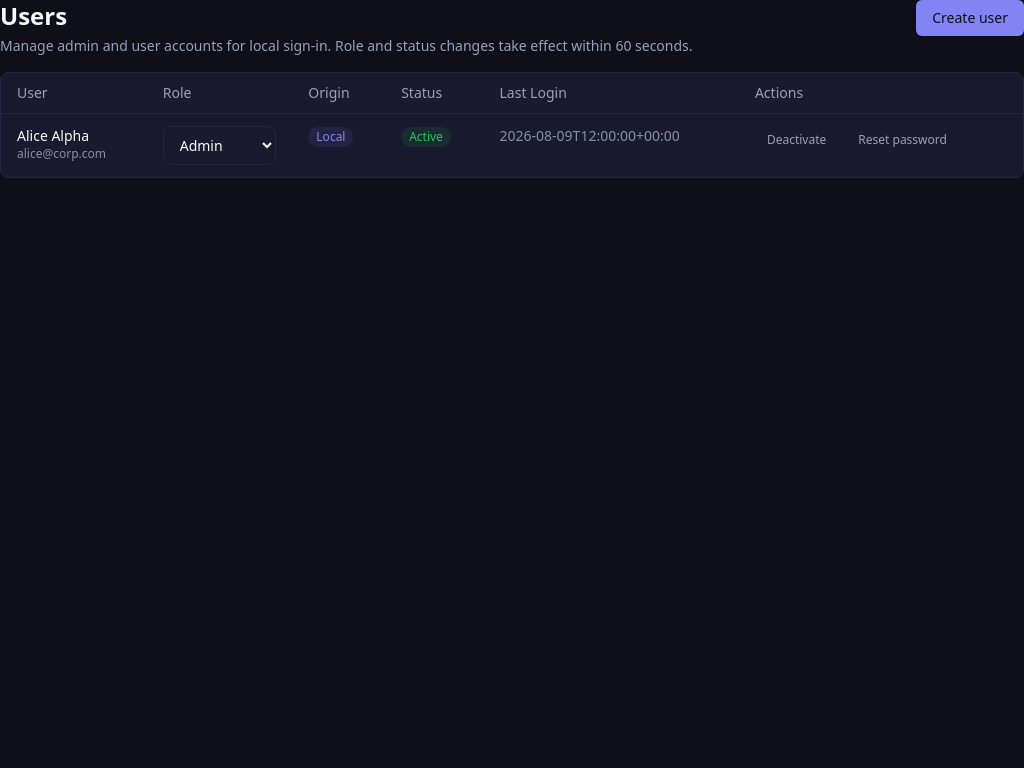
Test: AdminUsersPage — create user flow › happy path: fills the form, submits, the new row appears, dialog closes
The width and height of the screenshot is (1024, 768).
Check: the text "Alice Alpha" is shown, box x1=17 y1=126 x2=89 y2=145
Click the button "Create user" at (970, 18), box x1=916 y1=0 x2=1023 y2=36
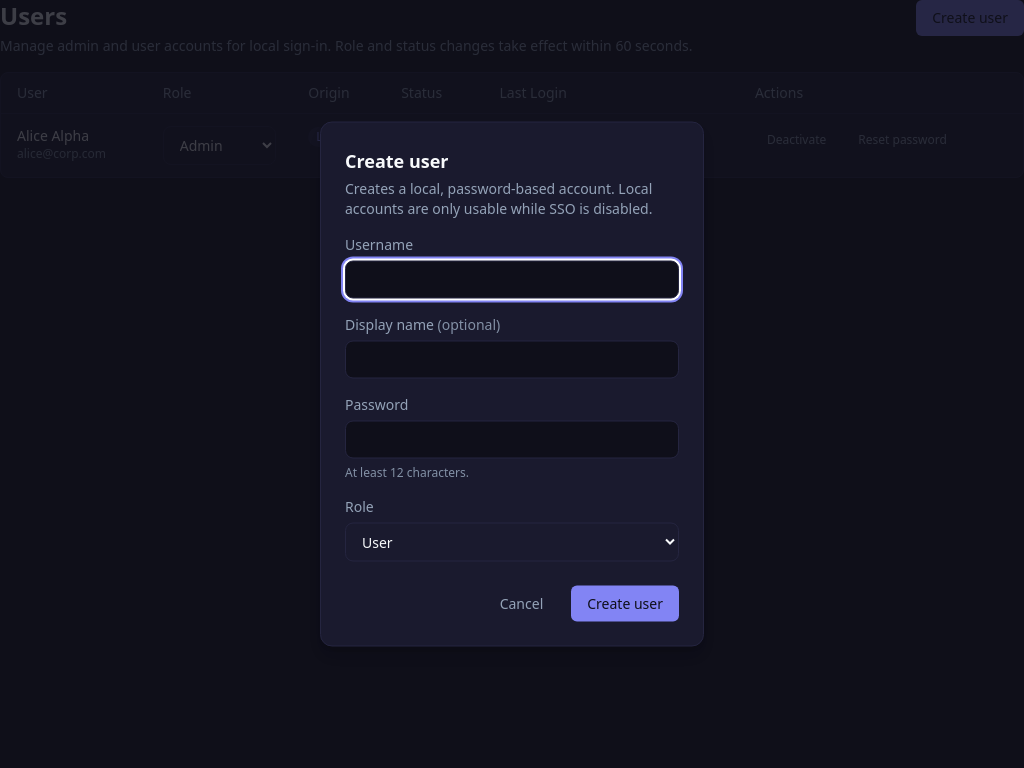
Type "zoe@corp.com" into the field labelled "Username" at (512, 280), box x1=345 y1=260 x2=679 y2=298
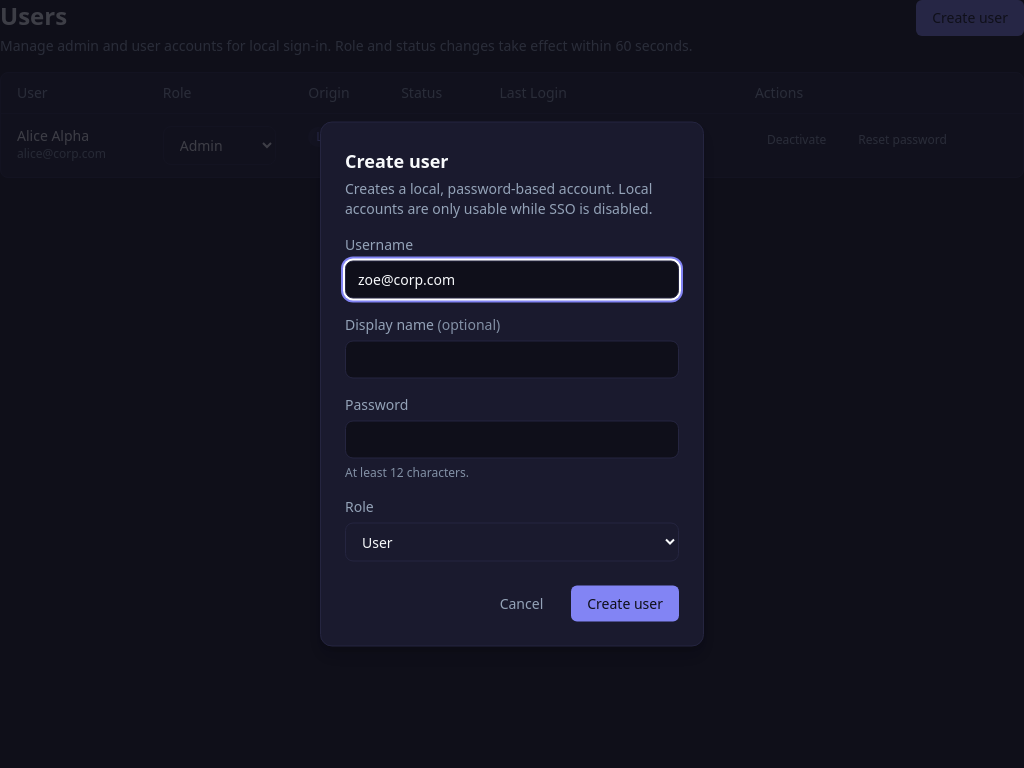
Type "a-very-long-password" into the password field labelled "Password" at (512, 440), box x1=345 y1=420 x2=679 y2=458
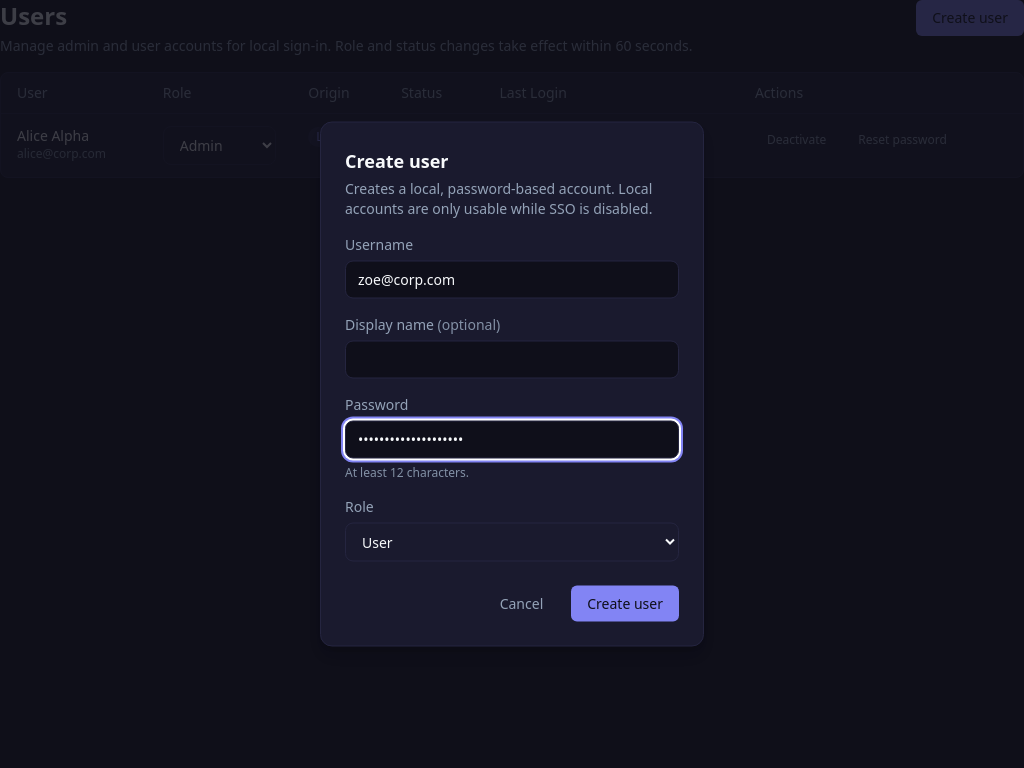
Click the button "Create user" at (625, 604), box x1=571 y1=586 x2=679 y2=622
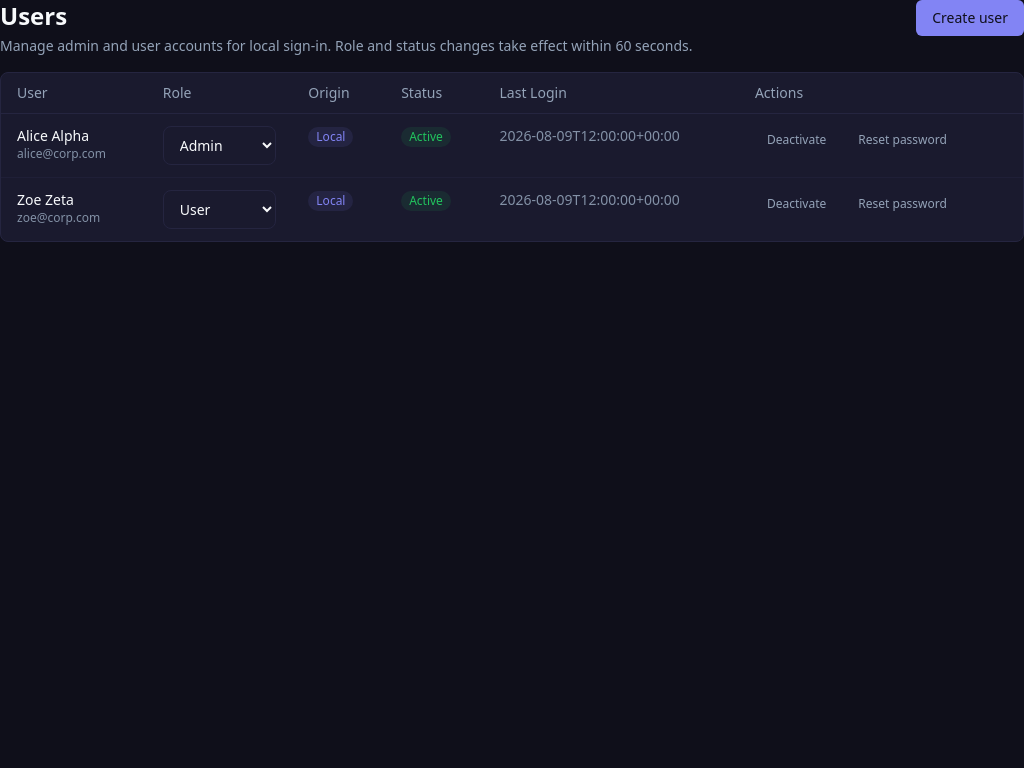
Check: the dialog is gone
Check: the text "Zoe Zeta" is shown, box x1=17 y1=190 x2=74 y2=209
